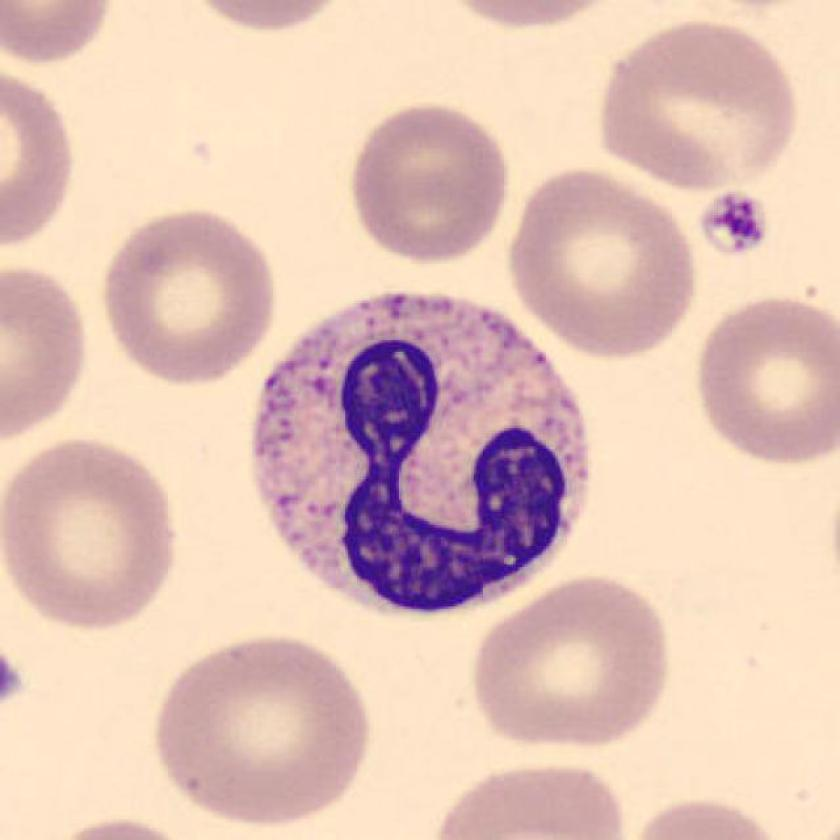neutrophil: (247, 293, 595, 621)
